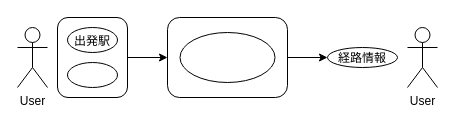
This 455x126 diagram has some shape labels left out. The box of each missing label's shape, as (x1, y1, x2, y2) in pixels:
ダイクストラ法 演算: (179, 32, 275, 82)
到着駅: (66, 62, 118, 88)
